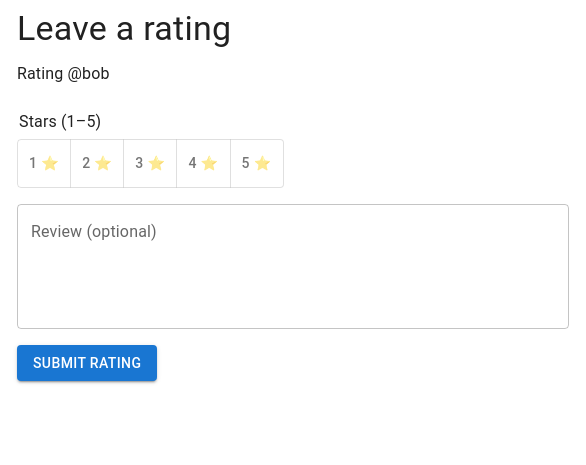
Test case: RateDealPage › shows error if deal already rated (409 from server shown as inline error)
Expected: the text "Rating @bob" is shown, [17,64,110,83]
# Click the 3 star toggle button
Step 1. Click the button named "3 star" → [150, 164], box [123,140,177,188]
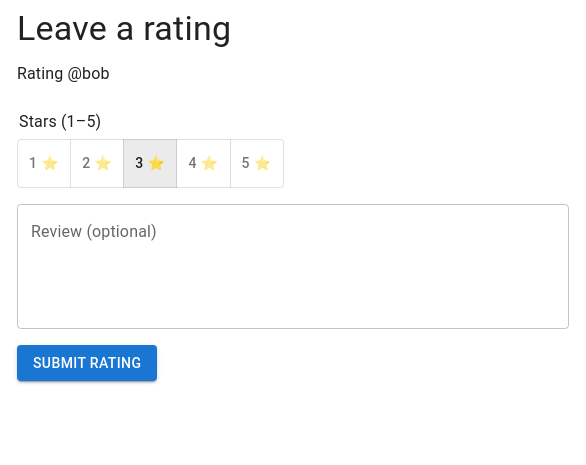
Step 2. Click the button "Submit rating" → [87, 363], box [17,345,157,382]
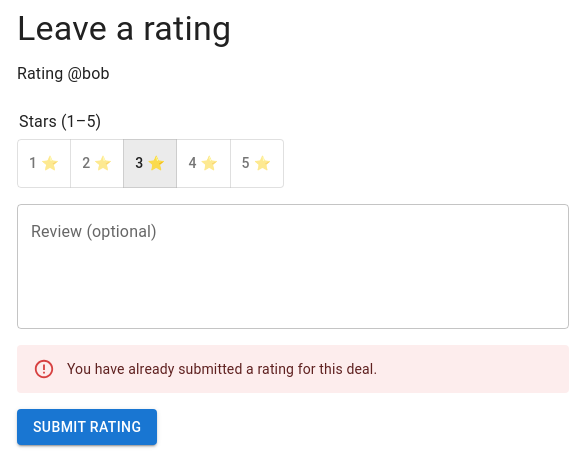
Now the text "You have already submitted a rating for this deal." is shown, box [67,361,377,377]
